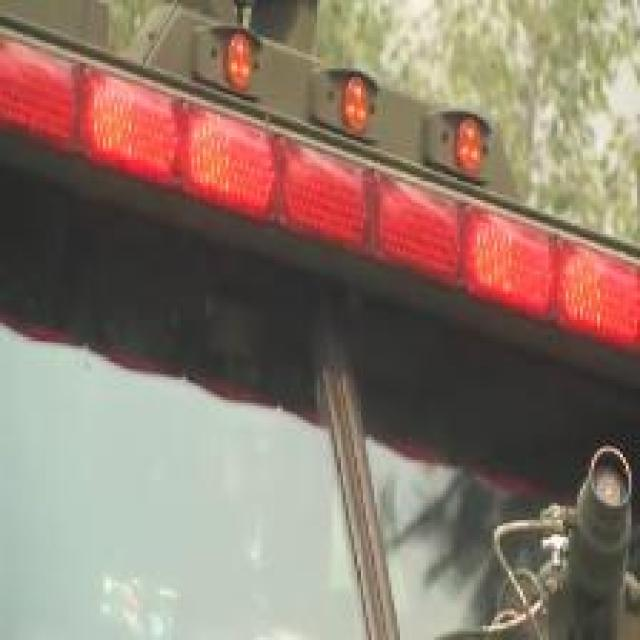other: (12, 40, 634, 346)
